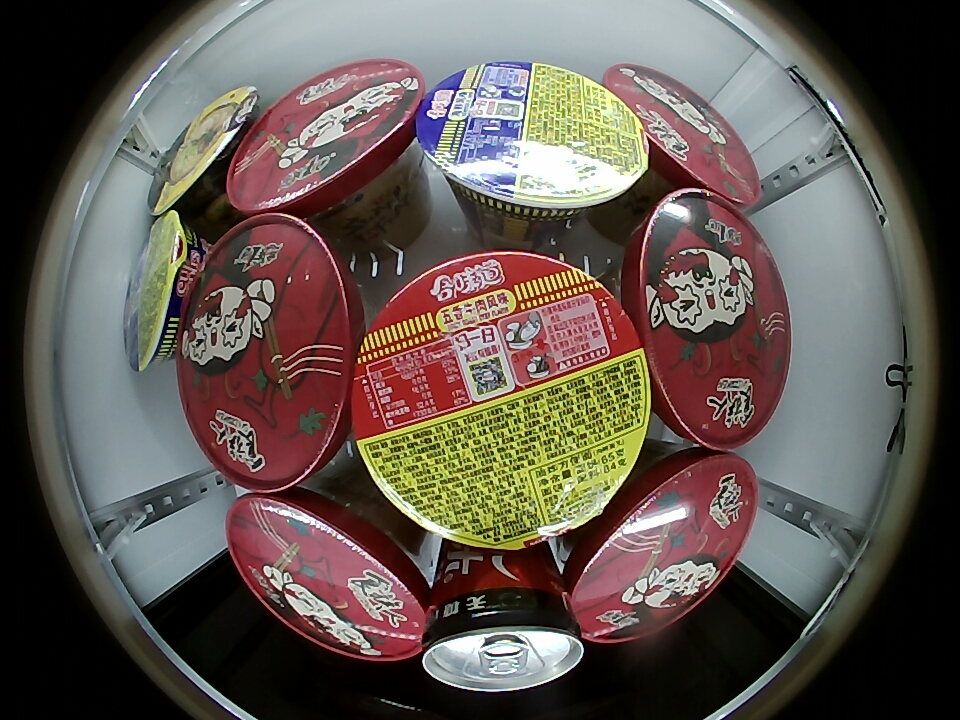heweidao: (415, 59, 652, 222), (121, 209, 204, 374)
heweidao3: (351, 249, 652, 552)
lingdukele: (422, 575, 585, 692)
suanlafen: (177, 213, 361, 493), (621, 189, 792, 451), (564, 449, 758, 644), (225, 485, 431, 661), (226, 60, 422, 219), (607, 64, 759, 205)
tangdaren2: (145, 85, 261, 219)
